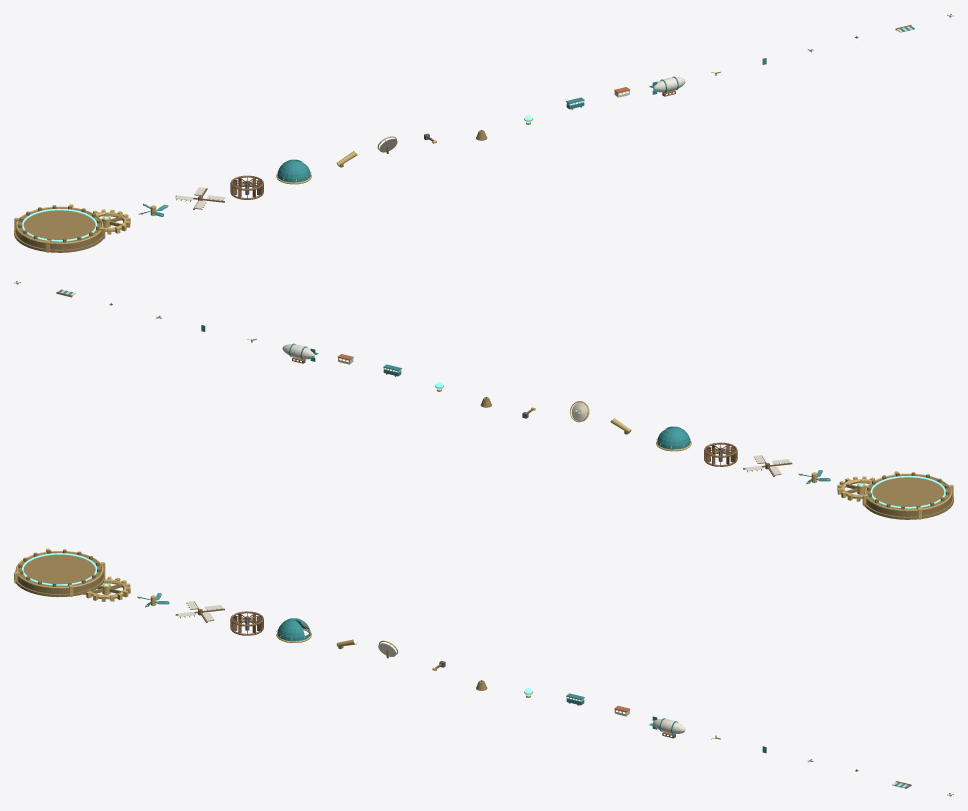
The model's file is parts.glb.
The picture shows the model from 3 angles, top to bottom: view 1: azimuth 30°, elevation 25°; view 2: azimuth 150°, elevation 25°; view 3: azimuth 330°, elevation 25°; orthographic projection.
Parts seen in each view (by area): view 1: Crown_Collar, Observatory_Dome, Water_Wheel, Gear; view 2: Crown_Collar, Observatory_Dome, Water_Wheel, Gear; view 3: Crown_Collar, Gear, Observatory_Dome, Water_Wheel.
Boxes of the visible parts, x1,y1,x2,y2 form: Crown_Collar: (14, 204, 105, 252); Observatory_Dome: (276, 159, 311, 184); Water_Wheel: (230, 175, 263, 199); Gear: (93, 209, 130, 234); Crown_Collar: (862, 471, 953, 519); Observatory_Dome: (656, 426, 691, 451); Water_Wheel: (704, 442, 737, 466); Gear: (837, 476, 874, 501); Crown_Collar: (14, 548, 105, 597); Gear: (83, 576, 130, 601); Observatory_Dome: (276, 618, 311, 642); Water_Wheel: (230, 611, 263, 635).
Size of the model in its own units: 3.18 by 0.0908 by 0.2704.
